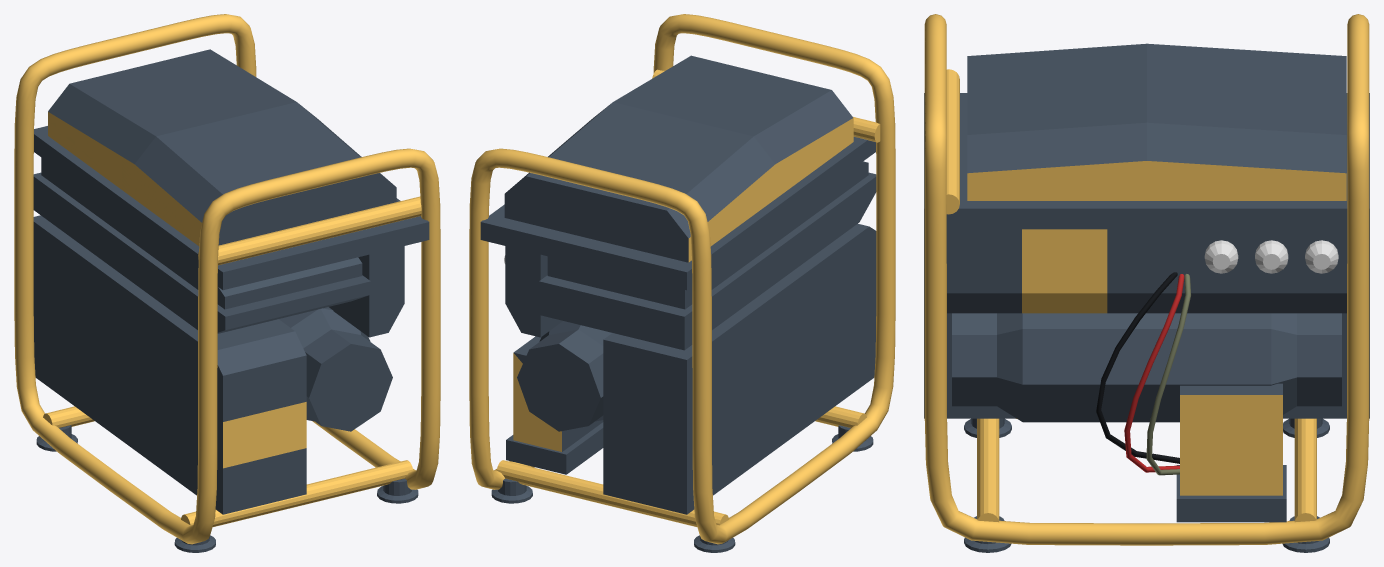
The model's file is Generator.fbx.
The picture shows the model from 3 angles, left to right: view 1: azimuth 30°, elevation 25°; view 2: azimuth 150°, elevation 25°; view 3: azimuth 270°, elevation 25°; orthographic projection. The views are drawn at different scales.
Parts seen in each view (by area): view 1: generatorPart.001, generatorPart.006, generator, generatorPart.002, generatorPart.004, generatorPart.008, generatorPart.007, generatorPart.011, generatorPart.009, generatorPart.003, generatorPart.010; view 2: generatorPart.001, generatorPart.006, generator, generatorPart.002, generatorPart.004, generatorPart.008, generatorPart.007, generatorPart.005, generatorPart.009, generatorPart.003, generatorPart.010, generatorPart.011; view 3: generatorPart.006, generatorPart.008, generator, generatorPart.003, generatorPart.005, generatorPart.004, generatorPart.009, generatorPart.001, generatorKnobs, generatorPart.011, generatorPart.010, generatorCable.001 (+2 smaller).
Boxes of the visible parts, <box> form: generatorPart.001: <box>33,215,306,514</box>; generatorPart.006: <box>48,49,396,246</box>; generator: <box>14,14,440,544</box>; generatorPart.002: <box>33,172,370,333</box>; generatorPart.004: <box>34,126,429,290</box>; generatorPart.008: <box>279,307,392,431</box>; generatorPart.007: <box>41,157,362,309</box>; generatorPart.011: <box>198,196,421,265</box>; generatorPart.009: <box>43,406,413,526</box>; generatorPart.003: <box>329,246,404,337</box>; generatorPart.010: <box>36,425,418,552</box>; generatorPart.001: <box>603,224,876,514</box>; generatorPart.006: <box>504,55,853,262</box>; generator: <box>469,14,895,544</box>; generatorPart.002: <box>539,172,876,350</box>; generatorPart.004: <box>480,137,875,290</box>; generatorPart.008: <box>517,321,611,431</box>; generatorPart.007: <box>547,161,868,309</box>; generatorPart.005: <box>506,336,603,474</box>; generatorPart.009: <box>496,406,866,526</box>; generatorPart.003: <box>505,246,562,337</box>; generatorPart.010: <box>491,425,873,552</box>; generatorPart.011: <box>652,69,880,142</box>; generatorPart.006: <box>967,43,1346,200</box>; generatorPart.008: <box>952,313,1341,422</box>; generator: <box>924,14,1369,545</box>; generatorPart.003: <box>946,229,1347,313</box>; generatorPart.005: <box>1176,383,1286,522</box>; generatorPart.004: <box>924,93,1369,229</box>; generatorPart.009: <box>977,418,1316,522</box>; generatorPart.001: <box>924,243,1369,418</box>; generatorKnobs: <box>1204,240,1338,273</box>; generatorPart.011: <box>946,69,959,214</box>; generatorPart.010: <box>964,418,1329,552</box>; generatorCable.001: <box>1096,272,1179,463</box>.
Size of the model in its own units: 0.572 by 0.8365 by 0.8.
